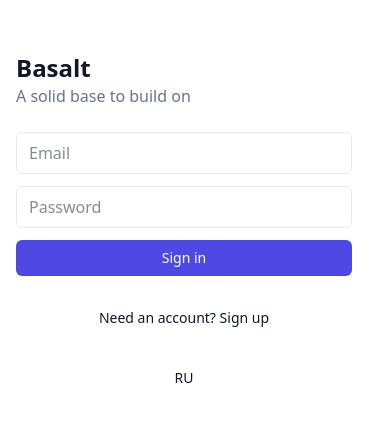
LoginScreen › explains a taken email in sign-up mode
Click the button "Need an account? Sign up" at coordinates (184, 318), box [16,300,352,336]
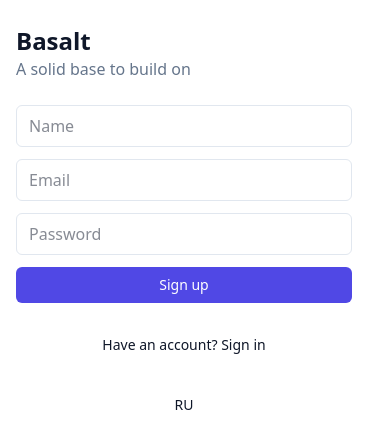
Type "pavel@example.com" into the field labelled "Email" at coordinates (184, 180), box [16,159,352,201]
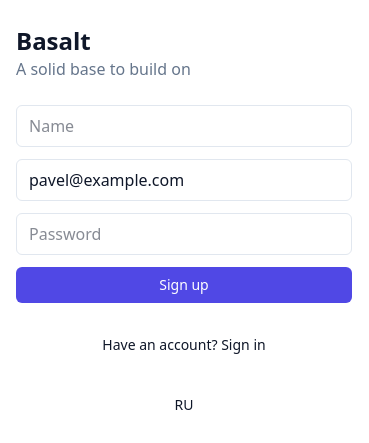
Type "secret-123" into the password field labelled "Password" at coordinates (184, 234), box [16,213,352,255]
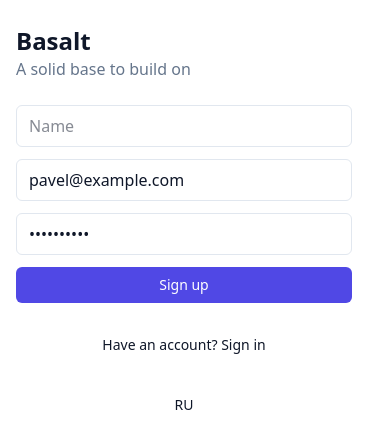
Click the button "Sign up" at coordinates (184, 285), box [16,267,352,303]
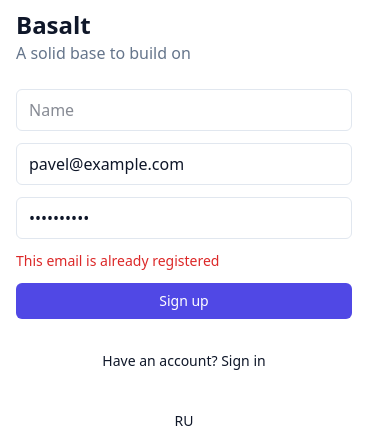
Expected: the message reads "This email is already registered", [16,251,220,270]
